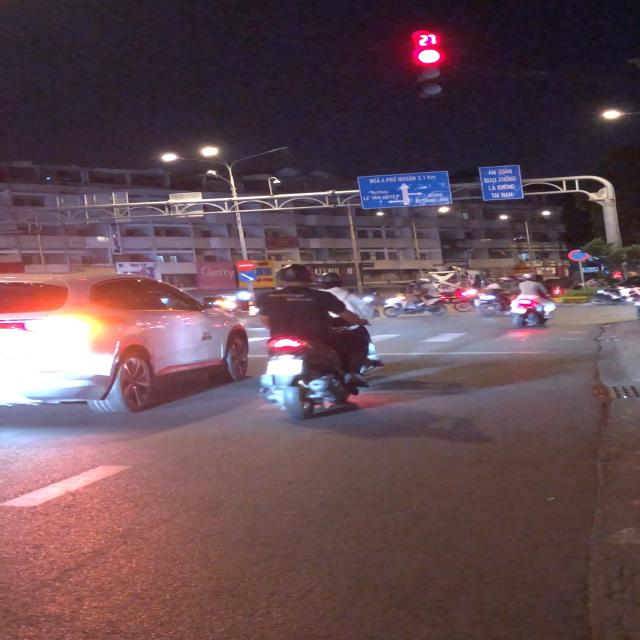Bien bao cam di nguoc chieu: (234, 260, 258, 270)
Bien bao cam do xe: (564, 248, 590, 262)
Bien bao huong phai di vong chuong ngai vat: (237, 271, 259, 284)
